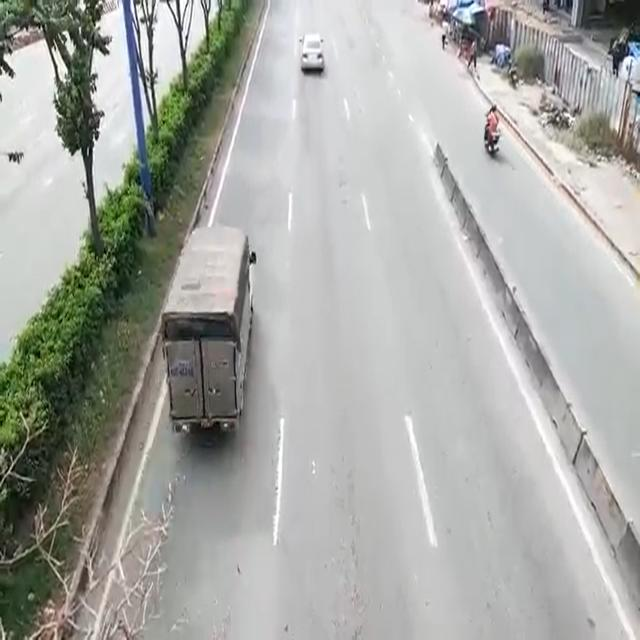car: (302, 34, 324, 74)
truck: (166, 221, 250, 444)
